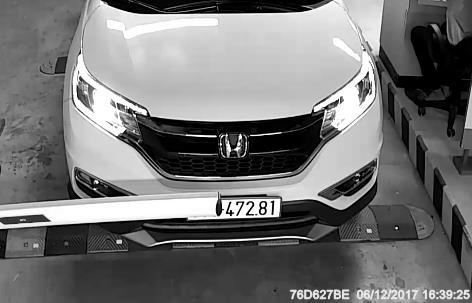License-plate: (183, 185, 286, 227)
